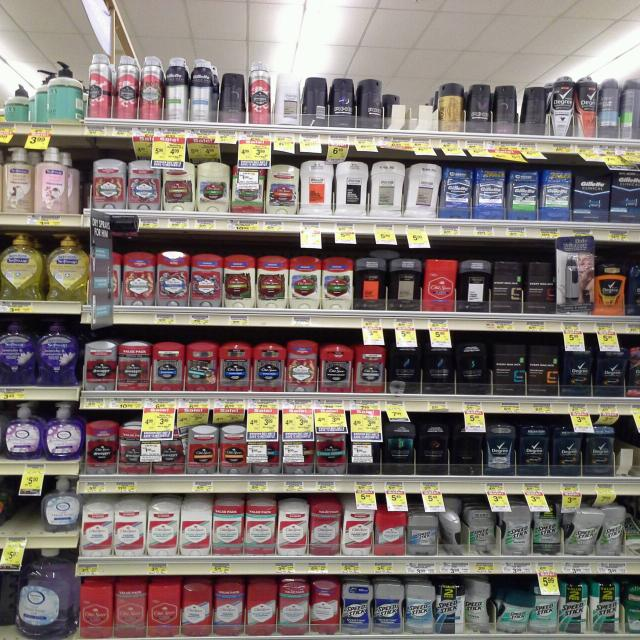unorganised: (1, 62, 83, 123), (32, 146, 82, 215), (598, 77, 639, 141), (404, 159, 443, 216), (499, 581, 536, 634), (566, 507, 603, 555), (185, 424, 218, 474), (273, 73, 303, 127), (465, 577, 492, 631), (520, 83, 547, 136), (467, 508, 498, 554), (304, 73, 329, 128), (439, 509, 468, 555), (360, 76, 383, 130)
